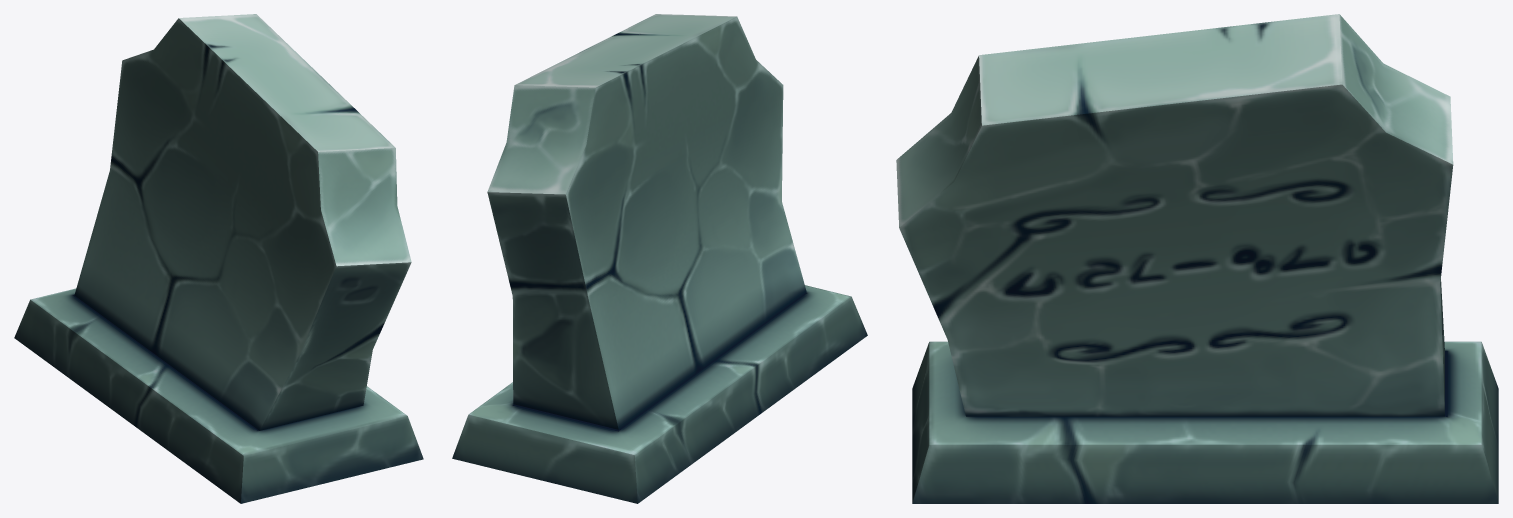
The model's file is tombstone_small_03.fbx.
The picture shows the model from 3 angles, left to right: view 1: azimuth 30°, elevation 25°; view 2: azimuth 150°, elevation 25°; view 3: azimuth 270°, elevation 25°; orthographic projection. The views are drawn at different scales.
Parts seen in each view (by area): view 1: tombstone_small_03; view 2: tombstone_small_03; view 3: tombstone_small_03.
Boxes of the visible parts, x1,y1,x2,y2 form: tombstone_small_03: [14, 14, 423, 503]; tombstone_small_03: [452, 14, 867, 503]; tombstone_small_03: [896, 14, 1498, 503].
Size of the model in its own units: 4.14 by 7.35 by 9.12.
